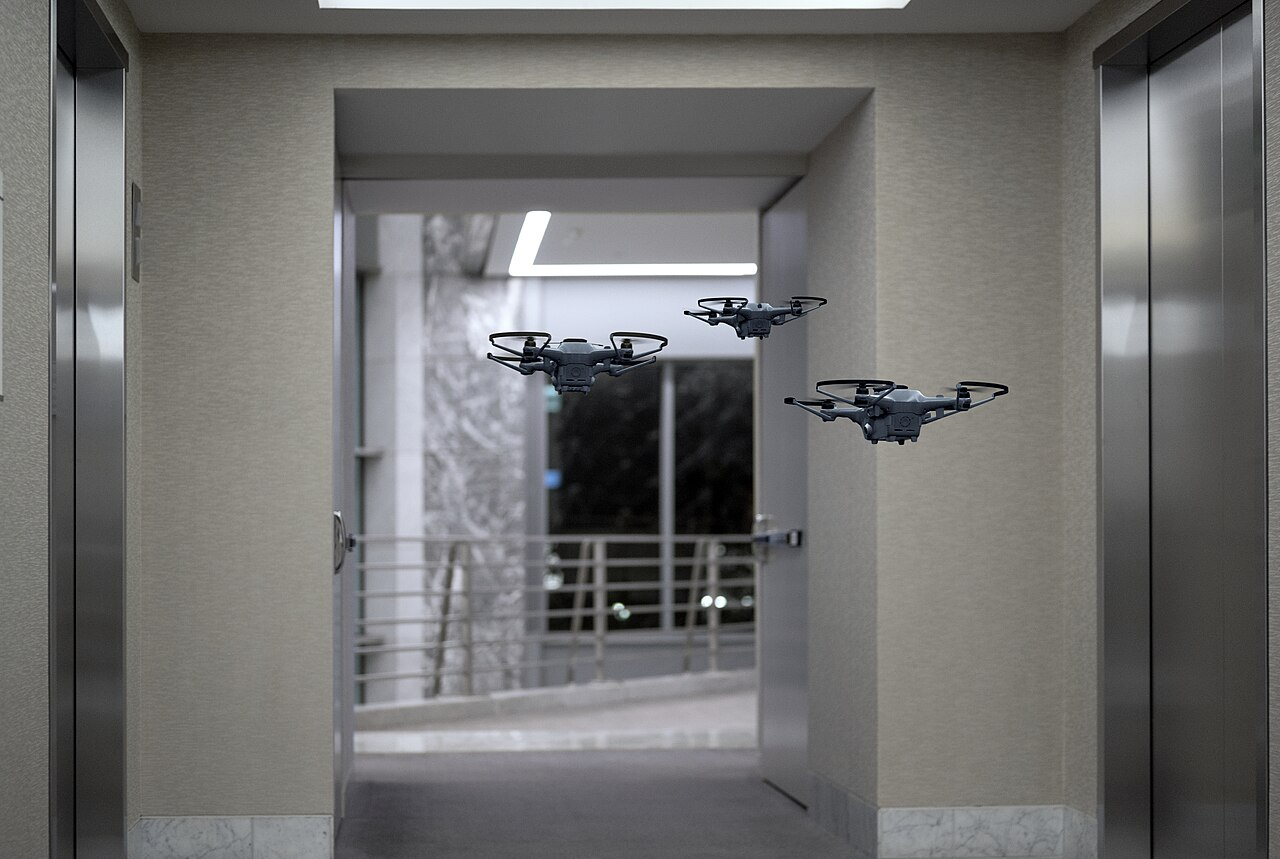drone: (782, 377, 1009, 459), (485, 339, 669, 412), (681, 305, 826, 352)
